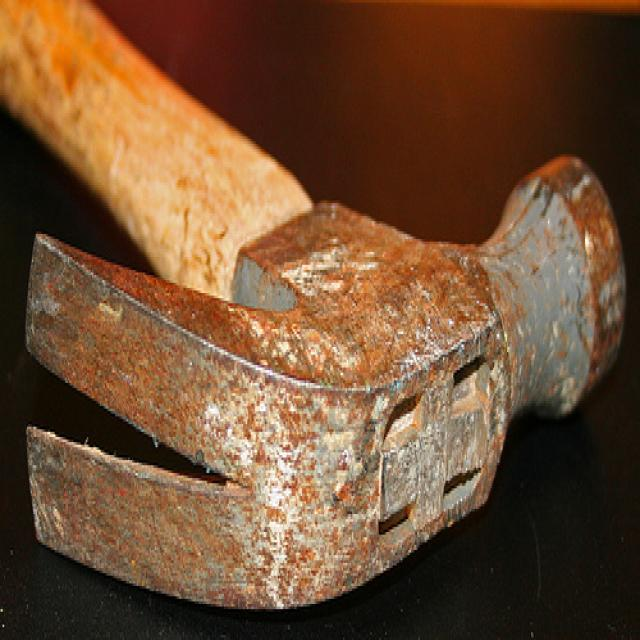hammer: (7, 43, 632, 617)
